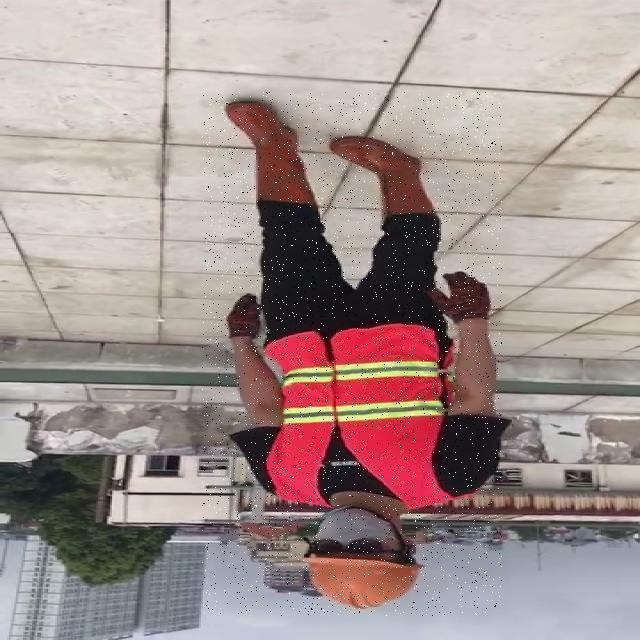Boots: (222, 101, 316, 204), (330, 136, 438, 217)
Gloves: (436, 270, 497, 326), (222, 291, 266, 343)
Helmet: (300, 554, 426, 612)
Vest: (263, 327, 452, 506)
